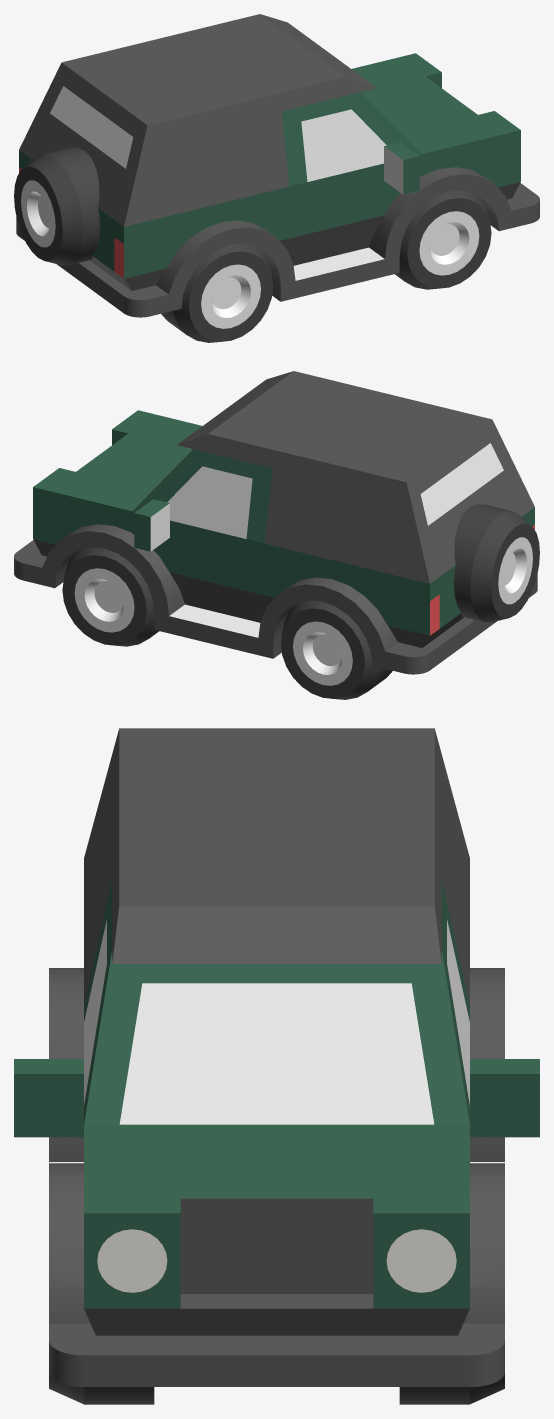
The model's file is 16 SUV_1.FBX.
3 views of the same model, one above another, from view 1: azimuth 30°, elevation 25°; view 2: azimuth 150°, elevation 25°; view 3: azimuth 270°, elevation 25° (orthographic). The views are drawn at different scales.
Visible parts, largest first — view 1: body005, wheel_back002, wheel_backRight005, wheel_frontRight005; view 2: body005, wheel_back002, wheel_backLeft005, wheel_frontLeft005; view 3: body005, wheel_frontLeft005, wheel_frontRight005.
Boxes of the visible parts, left/top/right/bottom form: body005: left=16, top=14, right=539, bottom=317; wheel_back002: left=14, top=147, right=99, bottom=265; wheel_backRight005: left=161, top=243, right=273, bottom=342; wheel_frontRight005: left=394, top=190, right=491, bottom=289; body005: left=14, top=371, right=537, bottom=674; wheel_back002: left=454, top=504, right=539, bottom=622; wheel_backLeft005: left=280, top=600, right=392, bottom=699; wheel_frontLeft005: left=62, top=547, right=159, bottom=646; body005: left=14, top=728, right=539, bottom=1386; wheel_frontLeft005: left=399, top=1373, right=504, bottom=1404; wheel_frontRight005: left=49, top=1373, right=154, bottom=1404.
Bounding box in the file's own units: 675 × 325 × 375.
